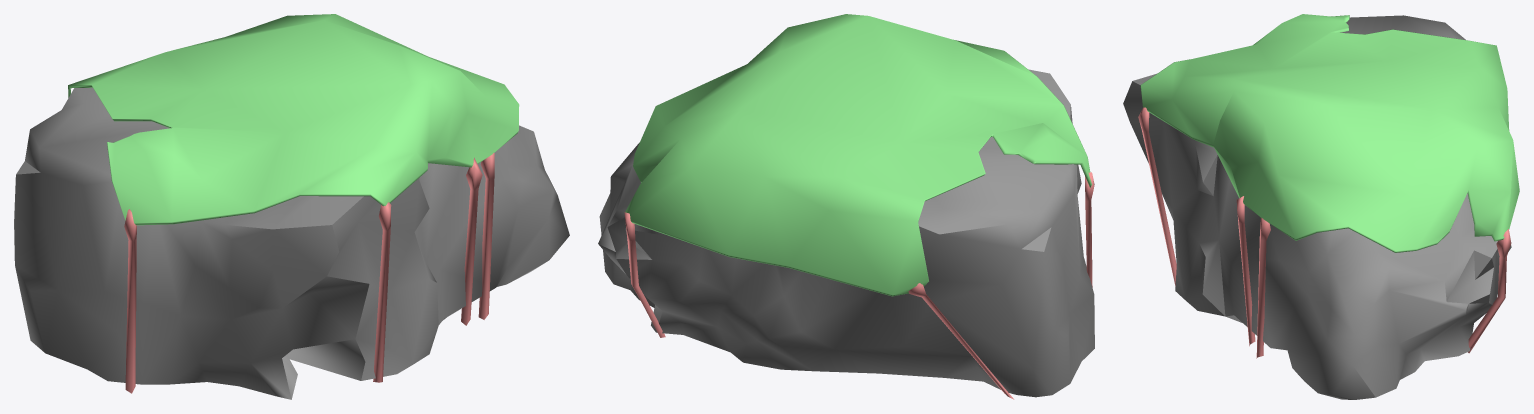
File: chair_stone_generic_village_A.gltf
The picture shows the model from 3 angles, left to right: view 1: azimuth 30°, elevation 25°; view 2: azimuth 150°, elevation 25°; view 3: azimuth 270°, elevation 25°; orthographic projection. The views are drawn at different scales.
Parts seen in each view (by area): view 1: chair_stone_generic_village_A; view 2: chair_stone_generic_village_A; view 3: chair_stone_generic_village_A.
Boxes of the visible parts, x1,y1,x2,y2 form: chair_stone_generic_village_A: (14, 14, 569, 399); chair_stone_generic_village_A: (598, 14, 1094, 399); chair_stone_generic_village_A: (1123, 14, 1519, 399).
Bounding box in the file's own units: 1.67 × 0.8354 × 1.24.
